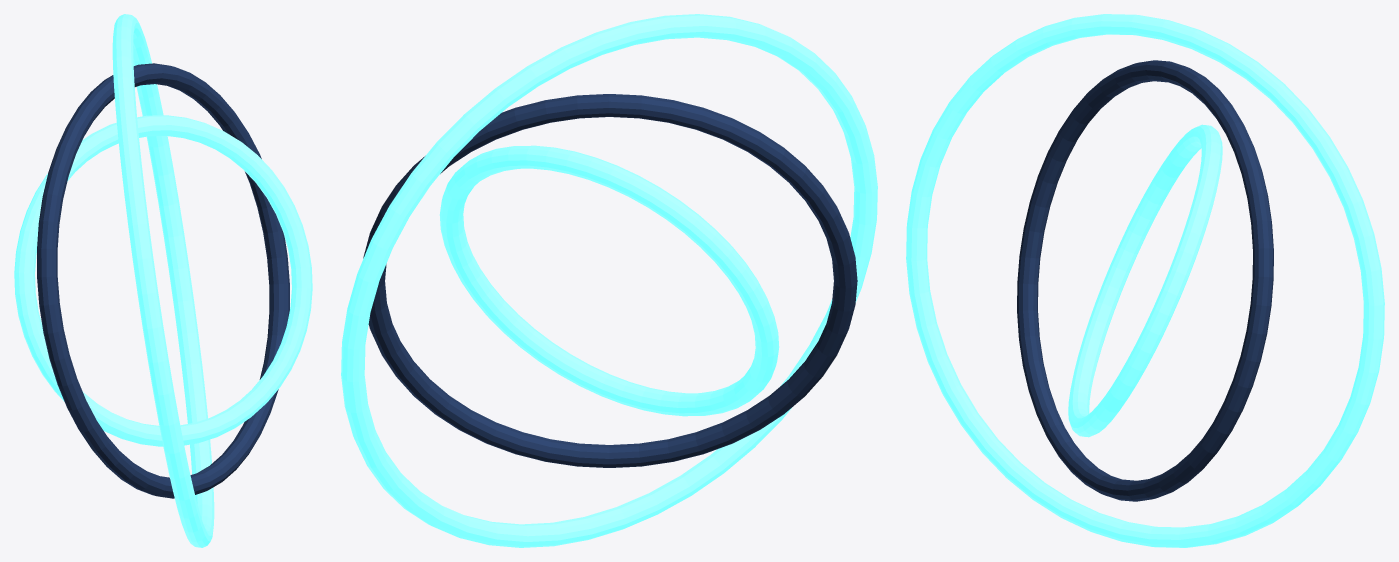
Rendered from sky_portal.glb.
3 renders of one model, left to right at view 1: azimuth 30°, elevation 25°; view 2: azimuth 150°, elevation 25°; view 3: azimuth 270°, elevation 25°, orthographic. The views are drawn at different scales.
Visible parts, largest first — view 1: Torus.002, Torus.001, Torus; view 2: Torus.002, Torus.001, Torus; view 3: Torus.002, Torus.001, Torus.
Part boxes in pixels (x1=…): Torus.002: x1=112, y1=14, x2=214, y2=547; Torus.001: x1=37, y1=63, x2=289, y2=498; Torus: x1=14, y1=115, x2=312, y2=446; Torus.002: x1=341, y1=14, x2=877, y2=547; Torus.001: x1=363, y1=94, x2=857, y2=467; Torus: x1=439, y1=145, x2=779, y2=416; Torus.002: x1=906, y1=14, x2=1384, y2=547; Torus.001: x1=1017, y1=60, x2=1273, y2=501; Torus: x1=1068, y1=124, x2=1222, y2=437.
Bounding box in the file's own units: 2.97 × 4.11 × 3.64.
